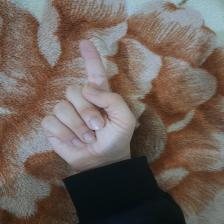one: (39, 38, 141, 170)
